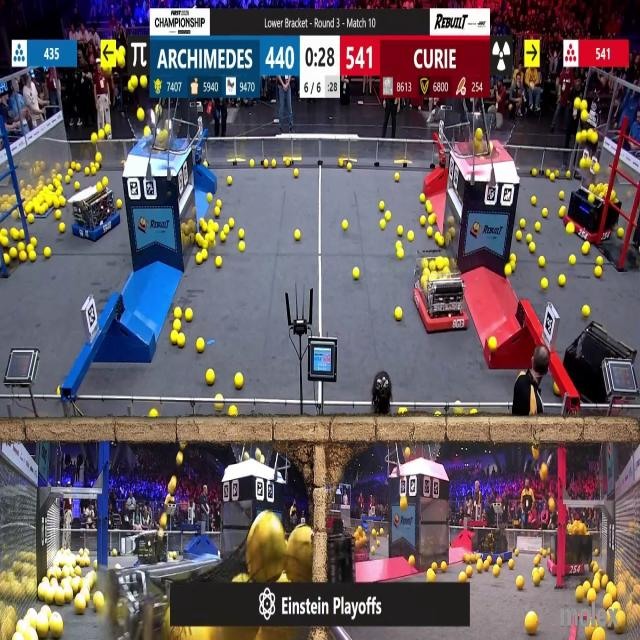ball_airborne: (130, 76, 139, 91), (170, 478, 178, 494), (161, 514, 169, 529), (115, 57, 124, 69), (540, 464, 547, 479), (399, 495, 406, 510), (590, 132, 598, 144), (176, 453, 184, 465), (101, 61, 109, 73), (138, 108, 145, 120), (140, 75, 147, 87), (550, 498, 556, 511), (475, 129, 482, 140), (582, 110, 589, 121), (573, 99, 580, 110), (97, 128, 103, 140), (593, 164, 600, 174), (162, 130, 169, 140), (582, 100, 589, 110), (105, 126, 111, 137), (403, 448, 409, 459), (144, 128, 150, 138), (93, 134, 99, 144), (576, 132, 580, 144), (579, 160, 585, 168), (163, 496, 169, 504), (97, 152, 102, 161), (154, 105, 158, 113)
ball_ground: (526, 614, 538, 636), (52, 618, 64, 639), (616, 614, 627, 634), (74, 597, 86, 615), (94, 594, 105, 612), (575, 588, 584, 603), (236, 374, 244, 390), (206, 371, 215, 385), (594, 630, 606, 640), (489, 338, 497, 352), (588, 590, 596, 604), (184, 309, 192, 322), (603, 596, 611, 609), (198, 339, 205, 353), (583, 306, 591, 318), (558, 275, 566, 287), (174, 308, 182, 320), (427, 569, 435, 581), (532, 573, 540, 585), (66, 592, 74, 604), (178, 335, 185, 348), (395, 308, 402, 321), (174, 319, 182, 330), (583, 243, 590, 255), (566, 222, 573, 234), (517, 576, 524, 588), (230, 408, 238, 418), (10, 230, 18, 240), (492, 566, 500, 576), (212, 222, 220, 232), (206, 232, 214, 242), (353, 269, 360, 280), (29, 251, 36, 262), (396, 249, 403, 260), (172, 333, 178, 345), (149, 411, 157, 420), (9, 248, 17, 257), (559, 208, 566, 218), (459, 572, 466, 582), (18, 251, 25, 261), (239, 242, 246, 252), (540, 279, 547, 289), (596, 255, 603, 265), (427, 214, 434, 224), (464, 554, 471, 564), (294, 231, 300, 242), (216, 256, 222, 267), (504, 266, 510, 277), (596, 267, 602, 278), (4, 253, 10, 264), (194, 234, 200, 245), (202, 221, 208, 232), (16, 244, 24, 252), (420, 216, 427, 225), (203, 240, 210, 249), (538, 256, 544, 266), (239, 230, 245, 240), (195, 253, 201, 263), (517, 232, 523, 242), (44, 248, 50, 258), (442, 562, 448, 572), (427, 228, 433, 238), (529, 243, 535, 253), (410, 556, 416, 566), (342, 220, 348, 230), (56, 210, 62, 220), (541, 208, 547, 218), (18, 231, 24, 241), (2, 238, 8, 248), (397, 225, 403, 235), (466, 566, 472, 576), (439, 237, 445, 247), (520, 218, 526, 228), (426, 204, 432, 214), (475, 562, 481, 572), (61, 198, 67, 208), (450, 229, 456, 239), (484, 561, 490, 571), (395, 242, 402, 250), (215, 402, 222, 410), (454, 409, 461, 417), (203, 250, 208, 261), (570, 255, 576, 264), (380, 202, 386, 211), (226, 176, 232, 185), (394, 173, 400, 182), (507, 560, 513, 569), (28, 214, 34, 223), (385, 212, 391, 221), (227, 218, 233, 227), (76, 567, 82, 576), (534, 557, 540, 566), (448, 216, 454, 225), (61, 222, 66, 232), (409, 232, 414, 242), (381, 219, 386, 229), (431, 562, 436, 572), (116, 200, 121, 210), (538, 568, 543, 578), (534, 222, 540, 230), (420, 193, 426, 201), (619, 230, 625, 238), (220, 234, 226, 242), (214, 208, 220, 216), (223, 224, 229, 232), (347, 164, 353, 172), (496, 558, 502, 566), (293, 170, 299, 178), (551, 174, 557, 182), (566, 172, 572, 180), (92, 168, 98, 176), (585, 582, 591, 590), (31, 239, 36, 248), (527, 234, 532, 243), (340, 160, 345, 169), (76, 165, 81, 174), (216, 393, 222, 400), (84, 168, 90, 175), (544, 170, 550, 177), (68, 170, 74, 177), (284, 161, 290, 168), (532, 169, 537, 177), (75, 182, 80, 190), (512, 253, 517, 261), (216, 200, 221, 208), (272, 162, 277, 170), (112, 550, 117, 558), (210, 240, 215, 248), (208, 192, 212, 201), (370, 530, 376, 536), (66, 176, 71, 183), (103, 178, 108, 185), (1, 230, 6, 237), (532, 198, 536, 206), (560, 190, 564, 198), (265, 162, 269, 170), (381, 528, 385, 536), (469, 411, 475, 416), (250, 161, 254, 168), (516, 550, 520, 557), (435, 413, 440, 418), (377, 539, 381, 545)
goal: (461, 118, 519, 159), (126, 117, 186, 153)
robot_blue: (71, 183, 120, 243), (132, 528, 173, 569), (475, 527, 511, 565)
robot_red: (412, 253, 465, 332), (548, 521, 594, 576), (568, 179, 608, 241)
